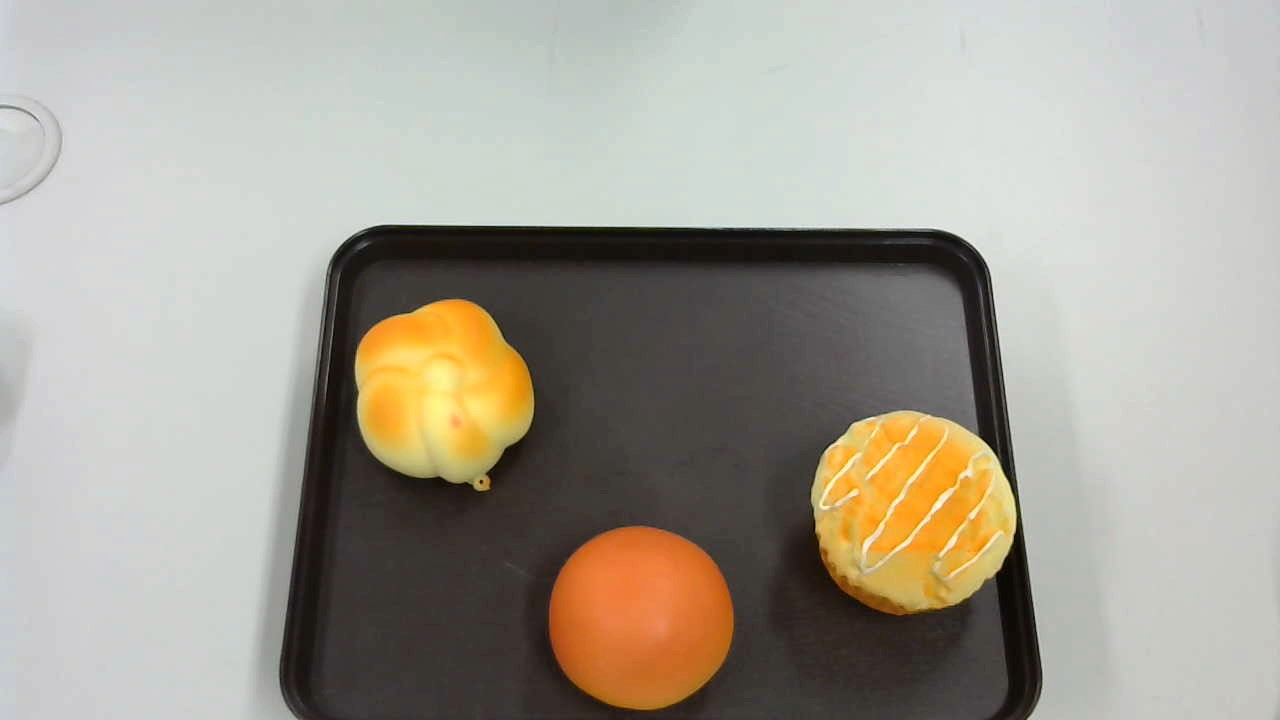bun: (547, 525, 735, 709)
cupcake: (811, 411, 1018, 615)
twist bread: (354, 298, 535, 489)
